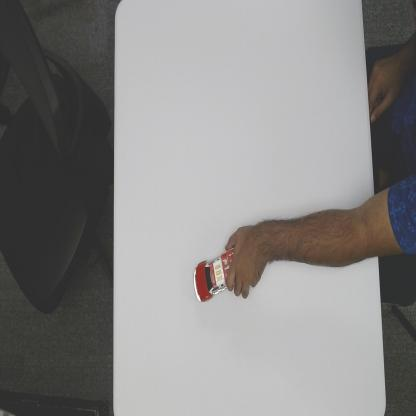Arm: (278, 185, 416, 273)
Firetruck: (191, 247, 238, 307)
Hand: (225, 220, 276, 299)
